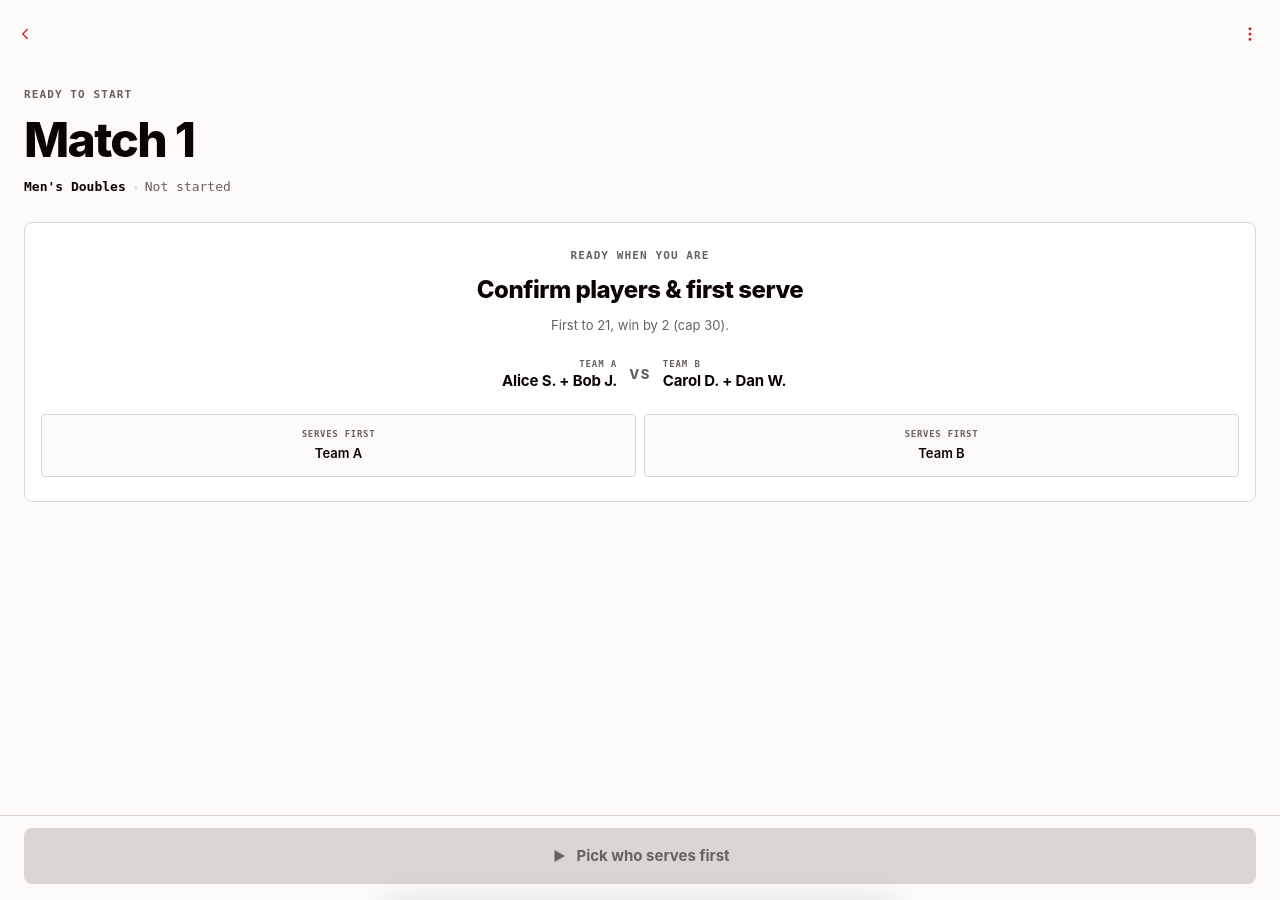
Scenario: MatchDetailPage › SCHEDULED match › Start button enables after picking Team A serves first
Click the radio button labelled "Serves first Team A" at (338, 446), box [41,414,636,477]
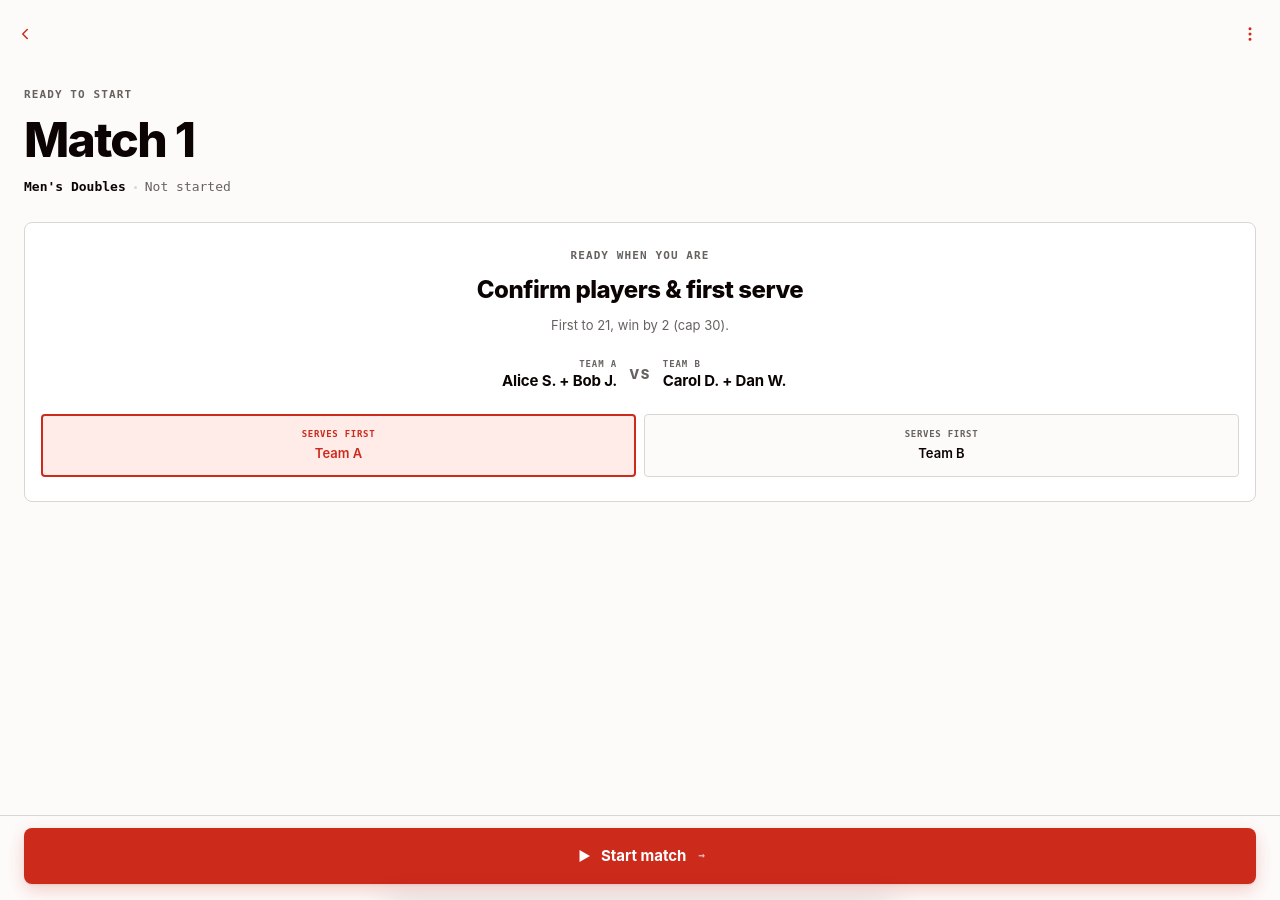
Expected: the button "Start match →" is enabled, [24,828,1256,884]
